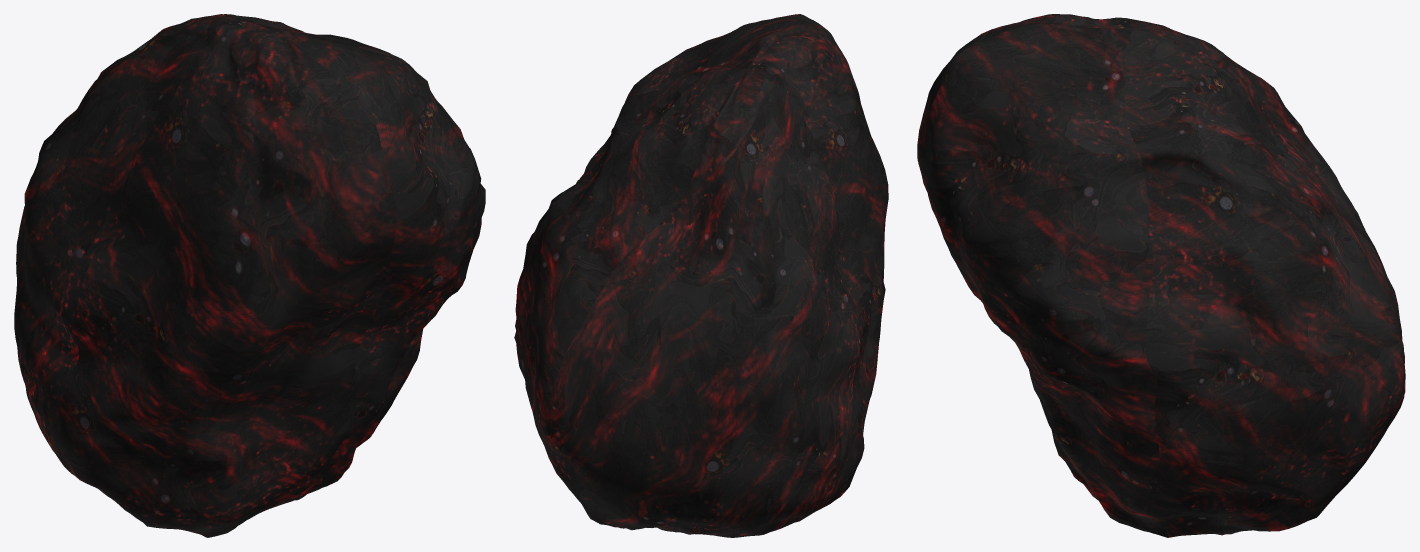
File: lava_rock.glb
3 views of the same model, side by side, from view 1: azimuth 30°, elevation 25°; view 2: azimuth 150°, elevation 25°; view 3: azimuth 270°, elevation 25° (orthographic). The views are drawn at different scales.
Parts seen in each view (by area): view 1: Rock1; view 2: Rock1; view 3: Rock1.
Part boxes in pixels (box(x1,y1,x2,y2)): Rock1: box(14, 14, 485, 537); Rock1: box(514, 14, 888, 537); Rock1: box(917, 14, 1405, 537).
Size of the model in its own units: 1.48 by 2 by 1.8.
1 material, 1 textured.
